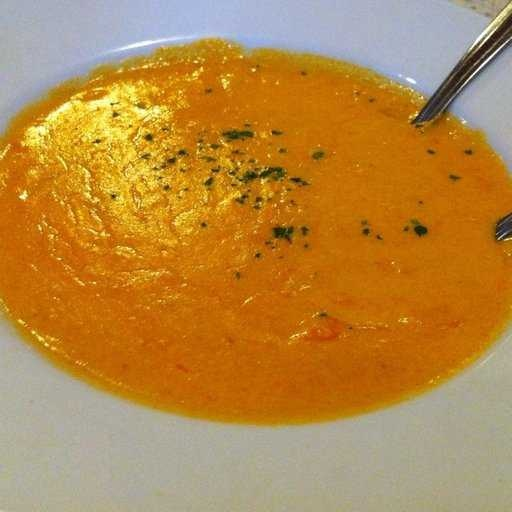soup: (1, 62, 461, 437)
